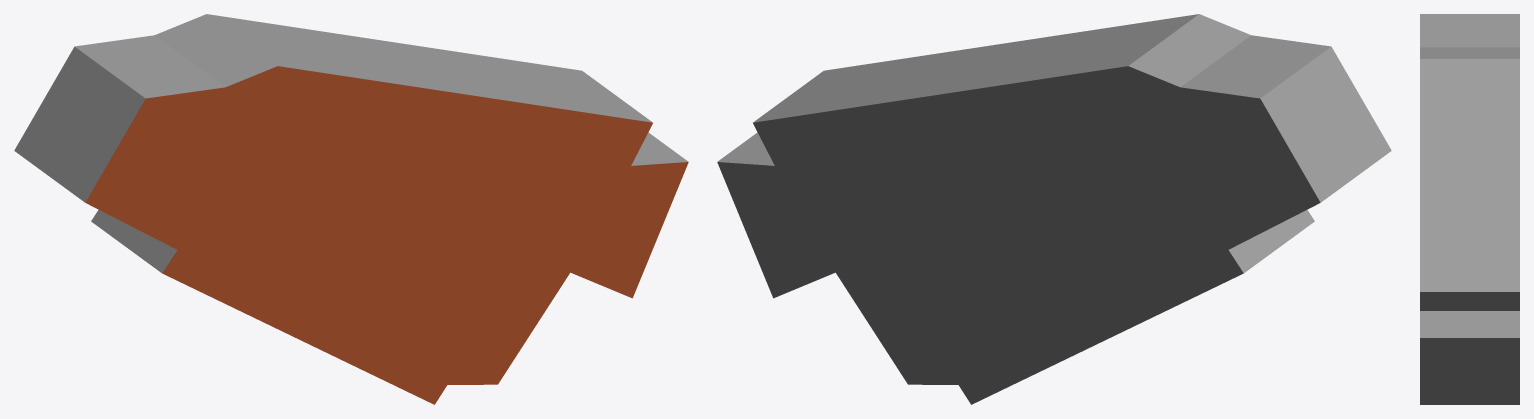
Rendered from construction_0197_assumed_A_Casa_h6m.obj.
3 renders of one model, left to right at view 1: azimuth 30°, elevation 25°; view 2: azimuth 150°, elevation 25°; view 3: azimuth 270°, elevation 25°, orthographic. The views are drawn at different scales.
Visible parts, largest first — view 1: construction_0197_assumed_A_Casa; view 2: construction_0197_assumed_A_Casa; view 3: construction_0197_assumed_A_Casa.
Part boxes in pixels (x1,y1,x2,y2): construction_0197_assumed_A_Casa: [14, 14, 688, 404]; construction_0197_assumed_A_Casa: [717, 14, 1391, 404]; construction_0197_assumed_A_Casa: [1420, 14, 1519, 404].
Size of the model in its own units: 29.38 by 17.55 by 6.
